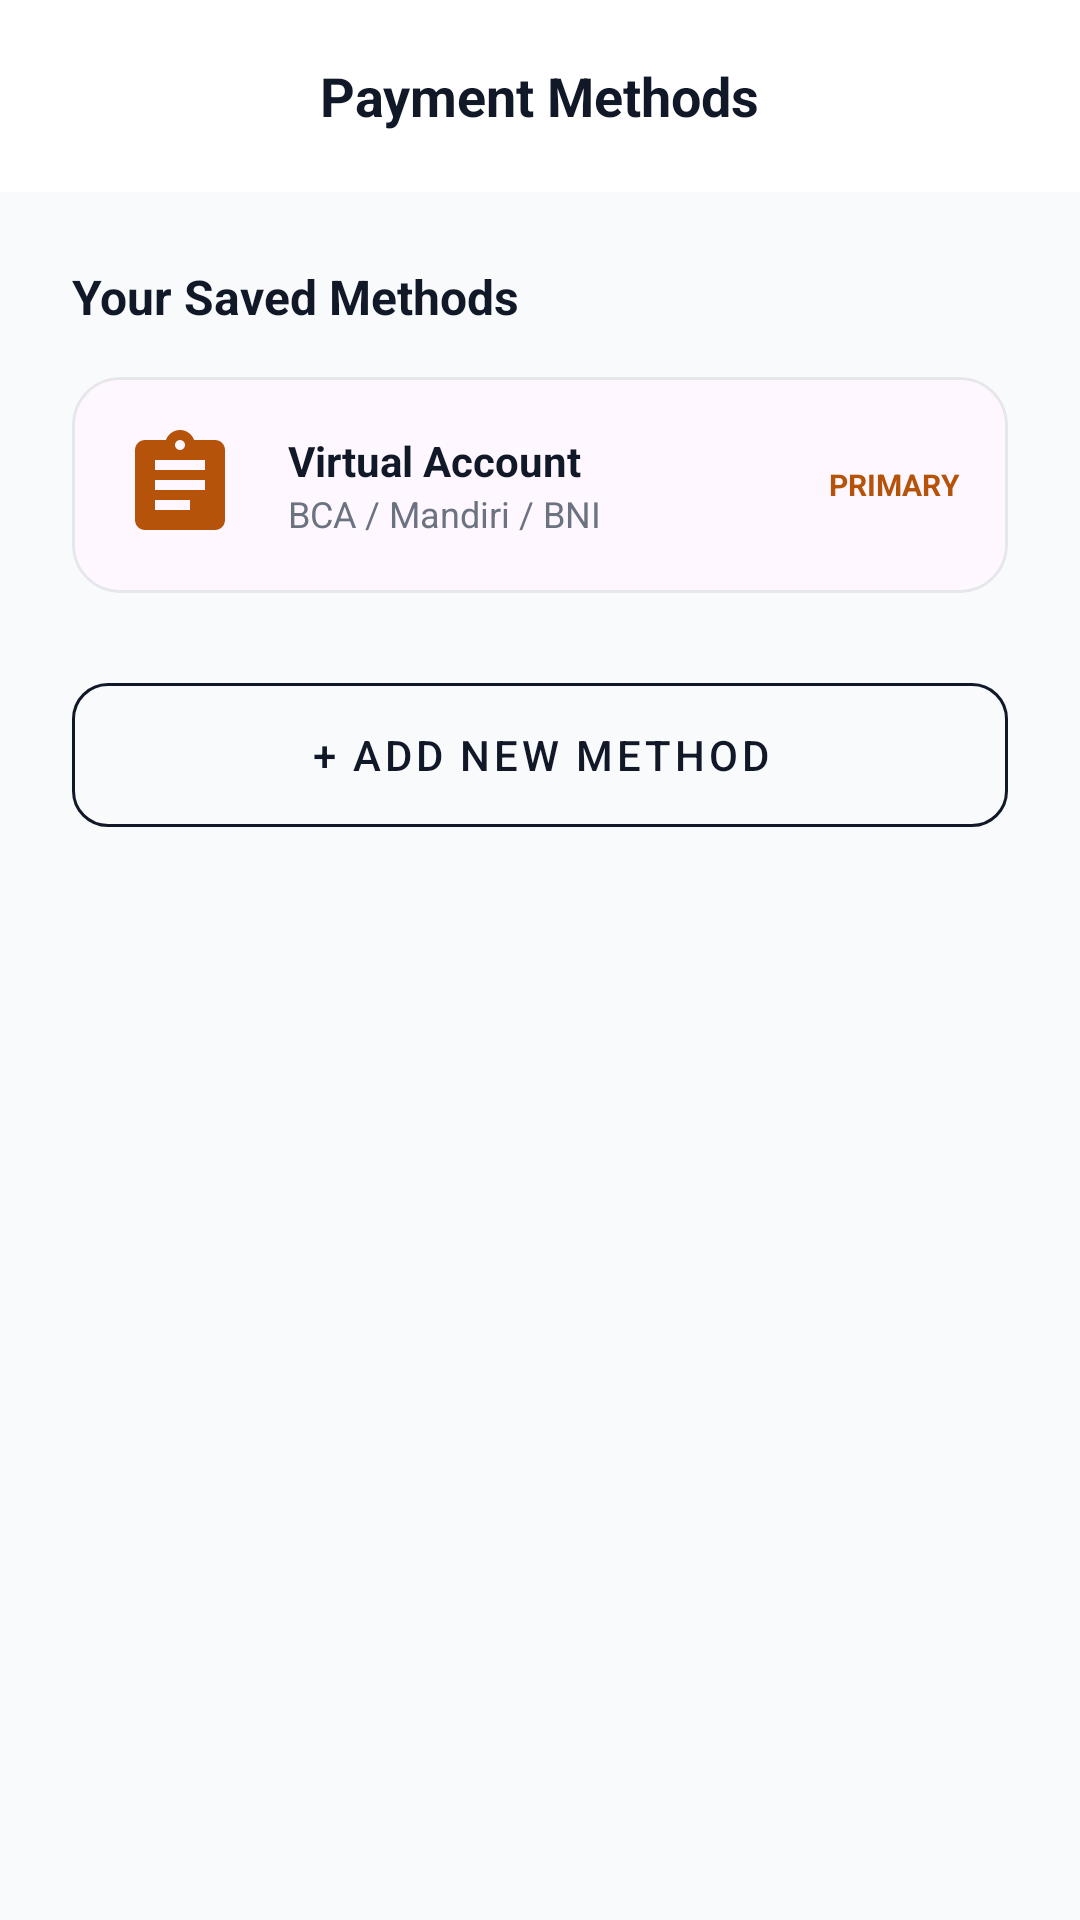

Where to tap for icons on this 1080×1920 app screen, as (x,y):
orders: (180,480)
